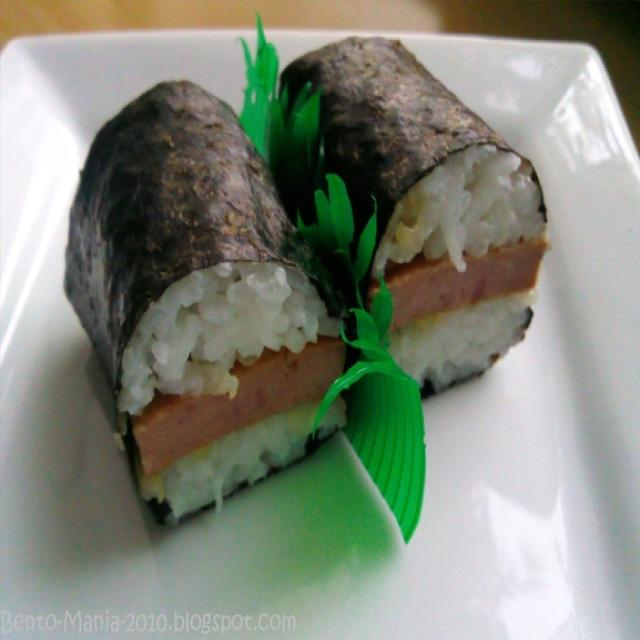寿司卷物: (13, 24, 611, 602)
